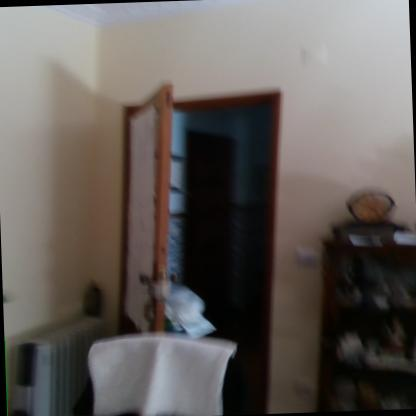semi: (105, 69, 299, 416)
